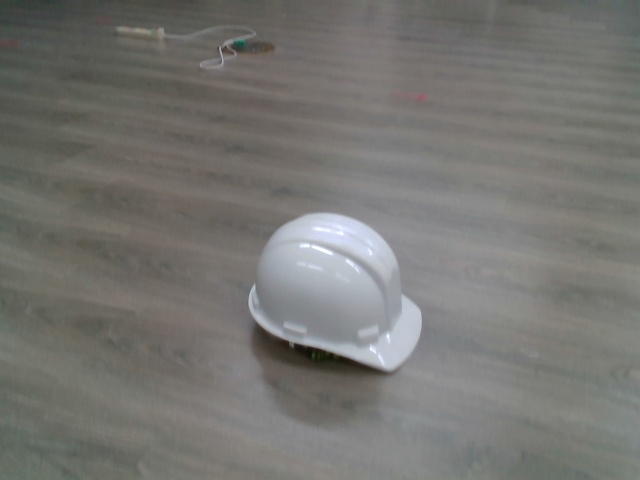helmet: (244, 208, 427, 376)
